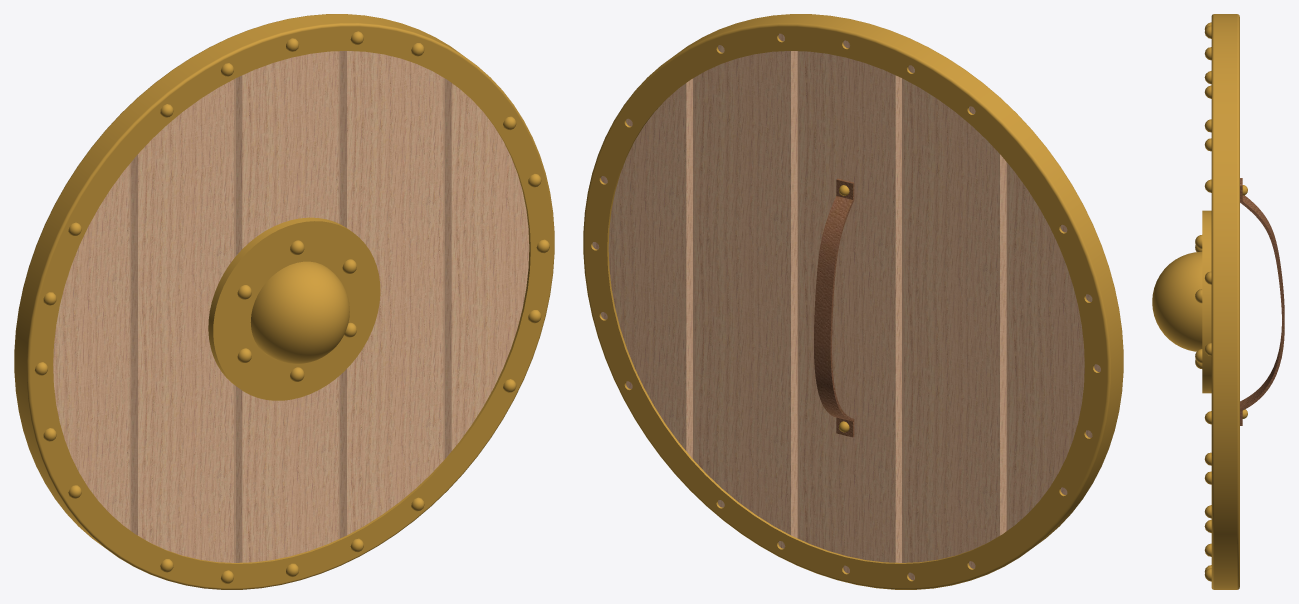
Rendered from Vikingeskjold.glb.
3 renders of one model, left to right at view 1: azimuth 30°, elevation 25°; view 2: azimuth 150°, elevation 25°; view 3: azimuth 270°, elevation 25°, orthographic. The views are drawn at different scales.
Parts seen in each view (by area): view 1: bræt, kuppel, Solid3, skjoldring, Solid5, Solid4, søm, søm2; view 2: bræt, Solid3, skjoldring, Solid5, Solid4, rem; view 3: Solid5, kuppel, skjoldring, rem, søm, Solid4, søm2.
Part boxes in pixels (left/top/right/bottom): bræt: left=53, top=51, right=529, bottom=562; kuppel: left=208, top=217, right=380, bottom=400; Solid3: left=14, top=147, right=122, bottom=547; skjoldring: left=91, top=14, right=477, bottom=171; Solid5: left=459, top=66, right=554, bottom=456; Solid4: left=104, top=442, right=477, bottom=589; søm: left=35, top=31, right=549, bottom=583; søm2: left=237, top=240, right=356, bottom=381; bræt: left=592, top=33, right=1100, bottom=580; Solid3: left=1015, top=147, right=1123, bottom=547; skjoldring: left=660, top=14, right=1046, bottom=171; Solid5: left=583, top=66, right=678, bottom=456; Solid4: left=660, top=442, right=1033, bottom=589; rem: left=814, top=178, right=854, bottom=437; Solid5: left=1211, top=203, right=1239, bottom=572; kuppel: left=1152, top=210, right=1211, bottom=393; skjoldring: left=1211, top=14, right=1239, bottom=203; rem: left=1240, top=178, right=1284, bottom=425; søm: left=1204, top=22, right=1211, bottom=581; Solid4: left=1211, top=570, right=1239, bottom=589; søm2: left=1195, top=235, right=1202, bottom=368.
Bounding box in the file's own units: 0.6306 × 0.6306 × 0.1452.
3 materials, 2 textured.
